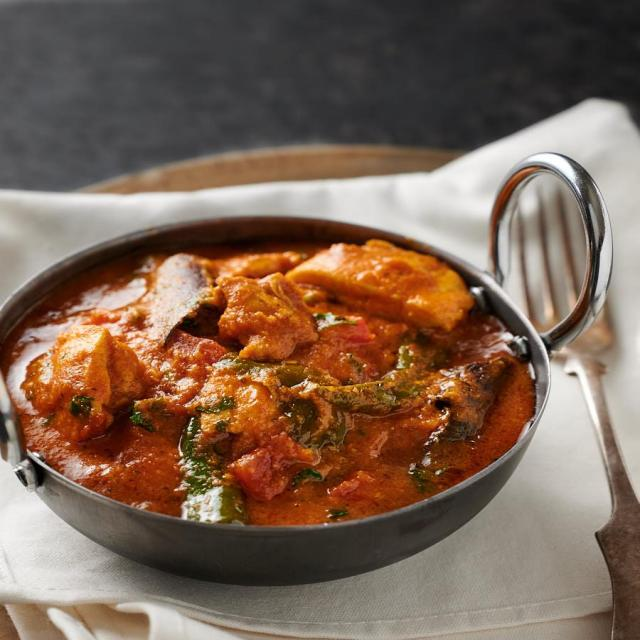chicken: (19, 238, 537, 528)
